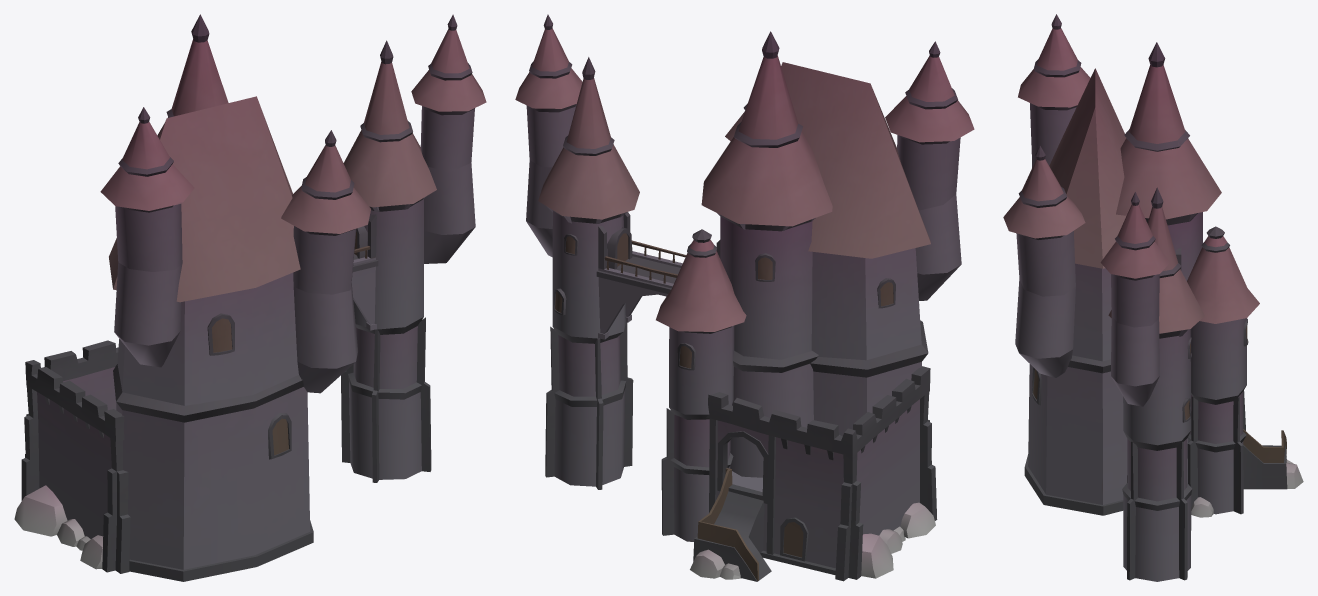
File: castle.glb
3 views of the same model, side by side, from view 1: azimuth 30°, elevation 25°; view 2: azimuth 150°, elevation 25°; view 3: azimuth 270°, elevation 25° (orthographic). The views are drawn at different scales.
Parts seen in each view (by area): view 1: castle; view 2: castle; view 3: castle.
Part boxes in pixels (x1,y1,x2,y2): castle: [14, 14, 486, 581]; castle: [515, 14, 974, 581]; castle: [1003, 14, 1303, 581].
Bounding box in the file's own units: 20.9 × 23.57 × 14.43.
Materials: 1 (1 with a texture image).
